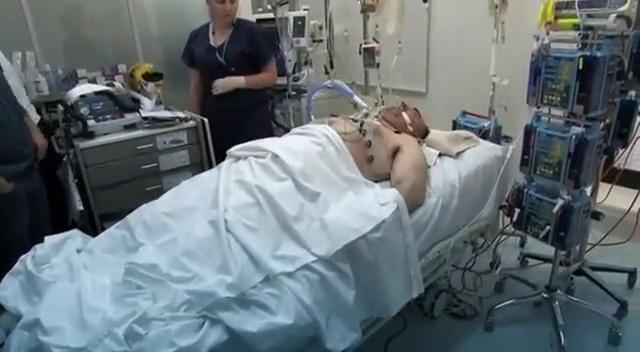others: (179, 0, 280, 166)
patient: (0, 98, 482, 350)
